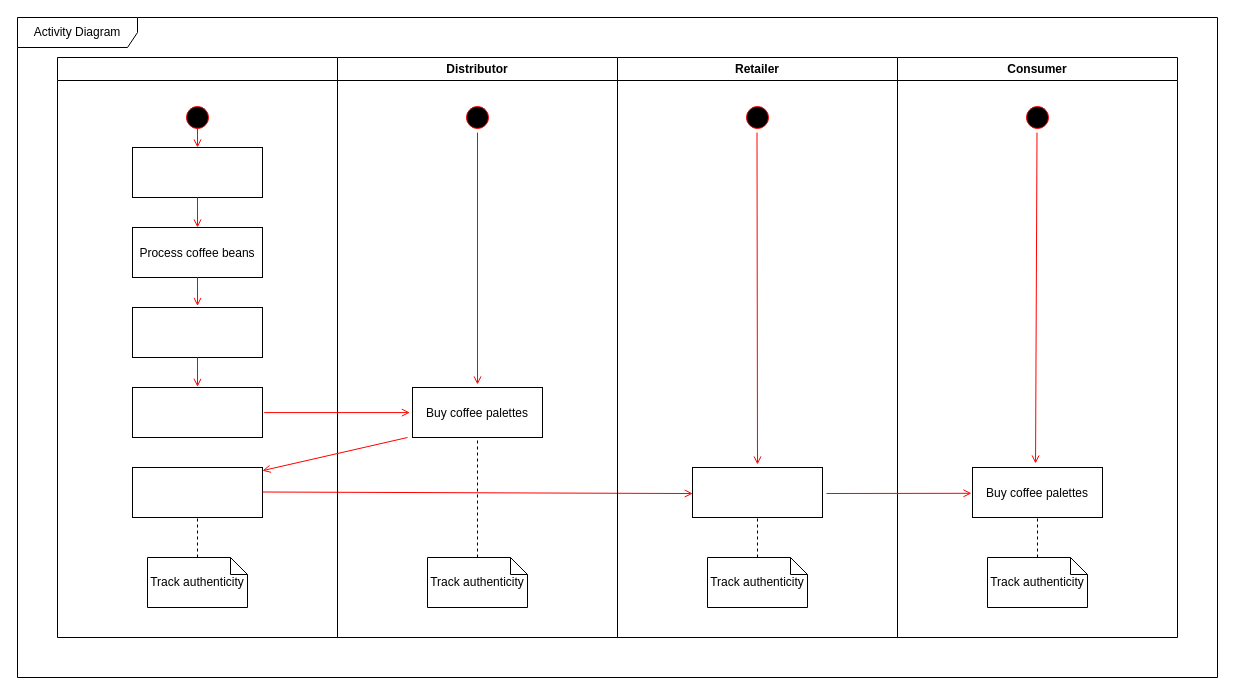
Some shapes in this 1235 by 695 pixel diagram are drawn without their labels. The box of each missing label's shape, as (x1, y1, x2, y2) in pixels:
Add coffee palettes: (132, 386, 262, 438)
Farmer: (56, 56, 338, 638)
Harvest coffee beans: (132, 146, 262, 198)
Pack coffee palettes: (132, 306, 262, 358)
Receive coffee palettes: (692, 466, 822, 518)
Ship coffee palettes: (132, 466, 262, 518)
